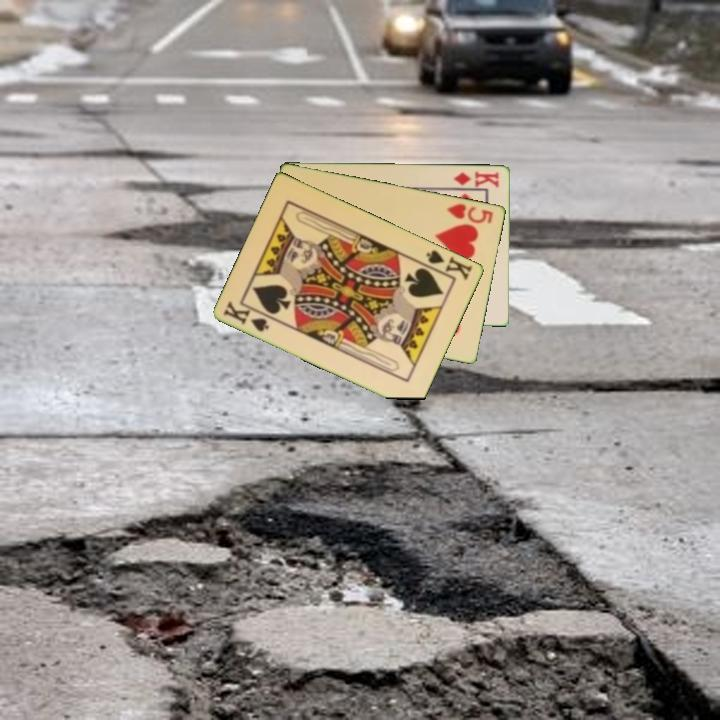5h: (443, 200, 496, 226)
Kd: (450, 168, 502, 190)
Ks: (419, 246, 476, 283), (220, 297, 272, 335)
